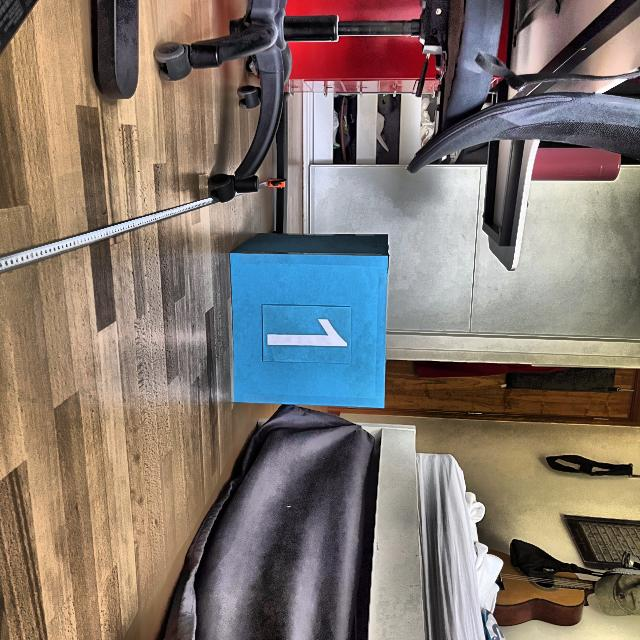blue box: (228, 229, 392, 412)
one: (265, 315, 349, 349)
